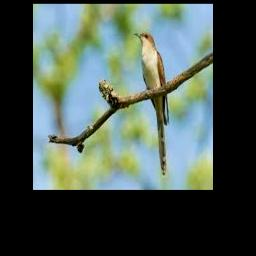Cuckoo: (133, 32, 169, 175)
